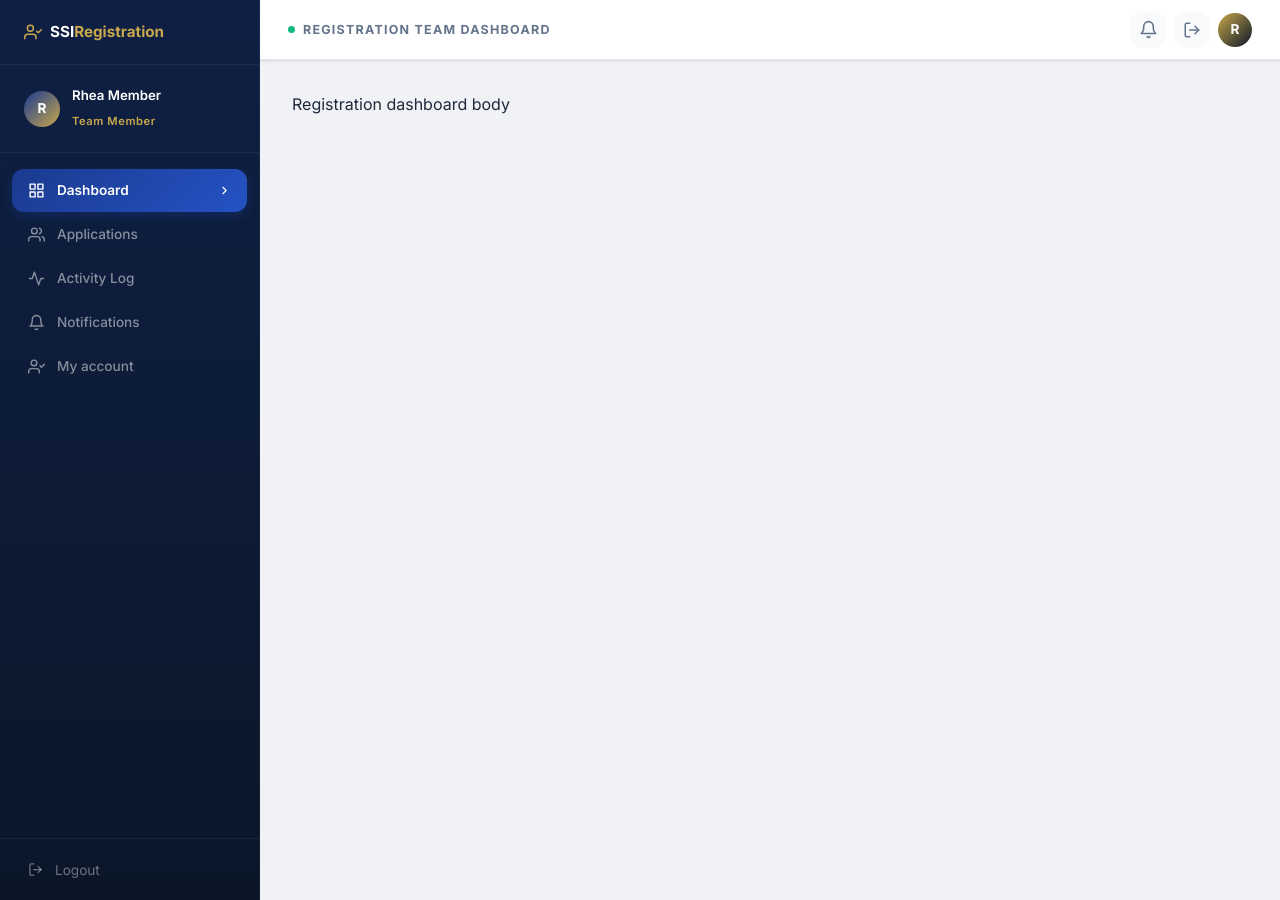
Test: RegistrationLayout — mobile drawer › closes after choosing a page, so the drawer never sits over the content
Earlier steps of the test are not shown.
Click the link "Applications" at (83, 234), box x1=28 y1=226 x2=138 y2=243
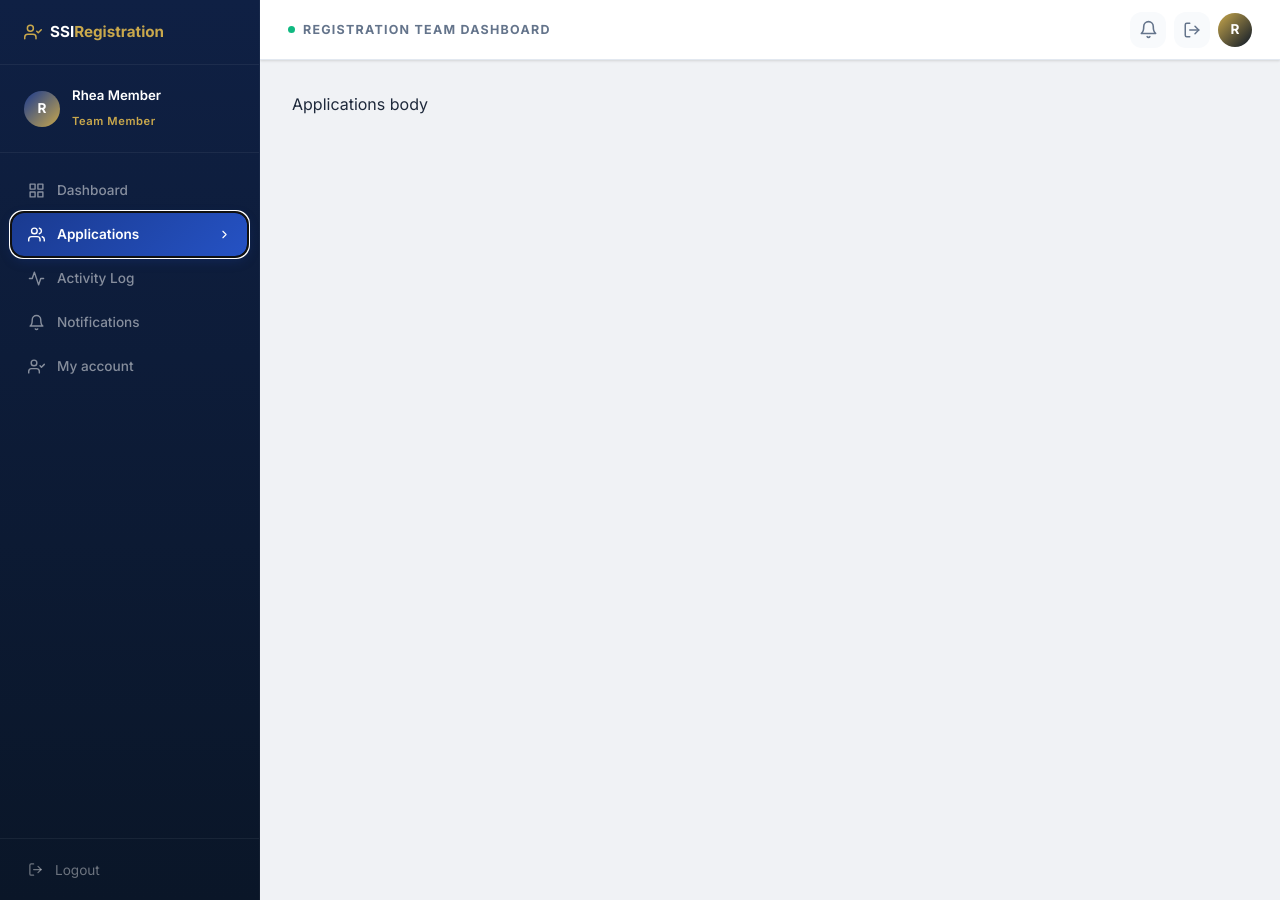
Expected: the text "Applications body" is shown, x1=292 y1=94 x2=428 y2=114
